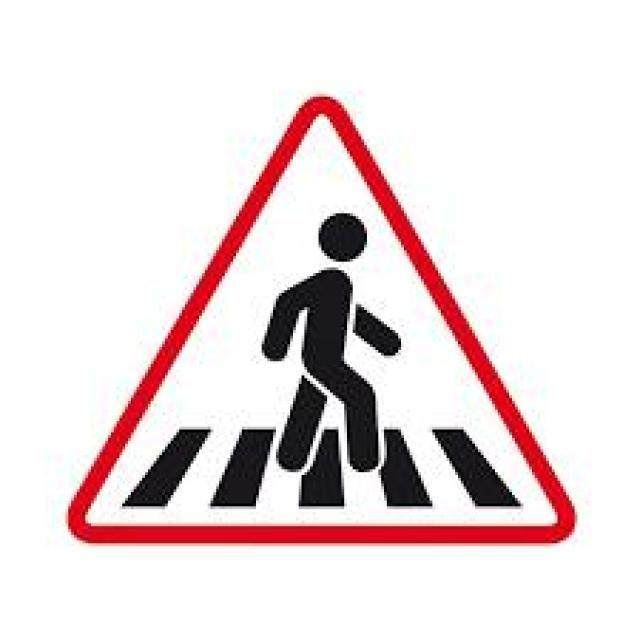pedestrian crossing: (65, 95, 571, 540)
